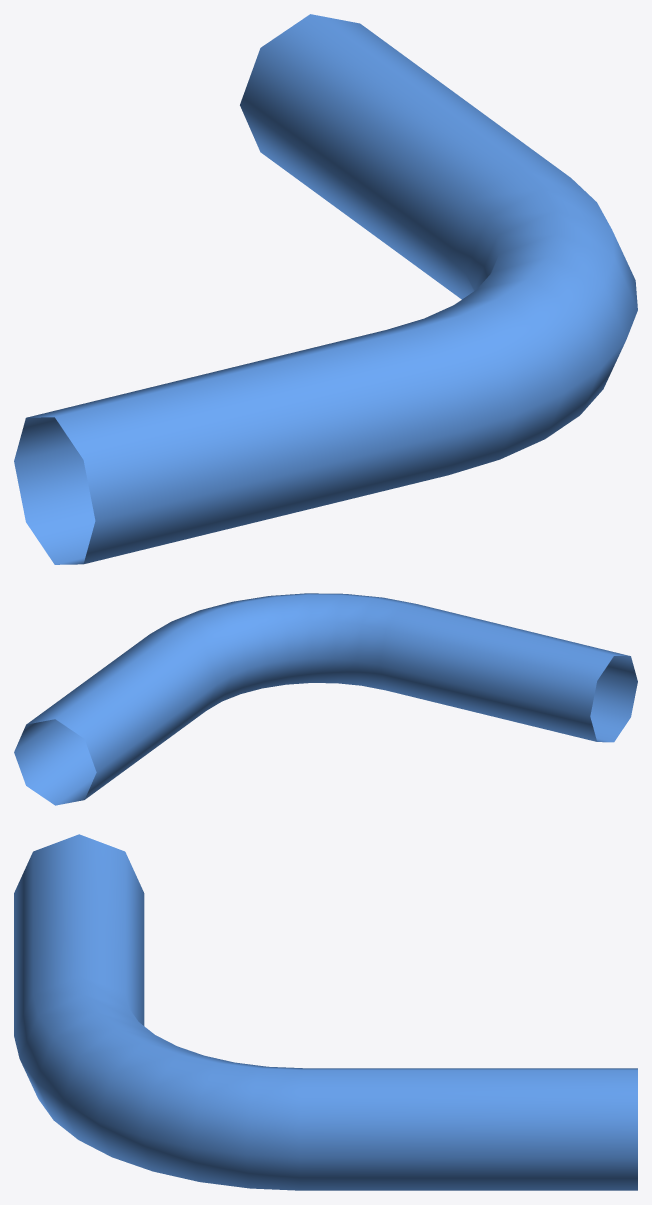
Rendered from Connection_AirPipeElbow.fbx.
3 renders of one model, top to bottom at view 1: azimuth 30°, elevation 25°; view 2: azimuth 150°, elevation 25°; view 3: azimuth 270°, elevation 25°, orthographic. The views are drawn at different scales.
Parts seen in each view (by area): view 1: Elbow; view 2: Elbow; view 3: Elbow.
Part boxes in pixels (x1,y1,x2,y2): Elbow: [14, 14, 637, 564]; Elbow: [14, 593, 637, 805]; Elbow: [14, 834, 637, 1190].
Size of the model in its own units: 0.335 by 0.07 by 0.335.
